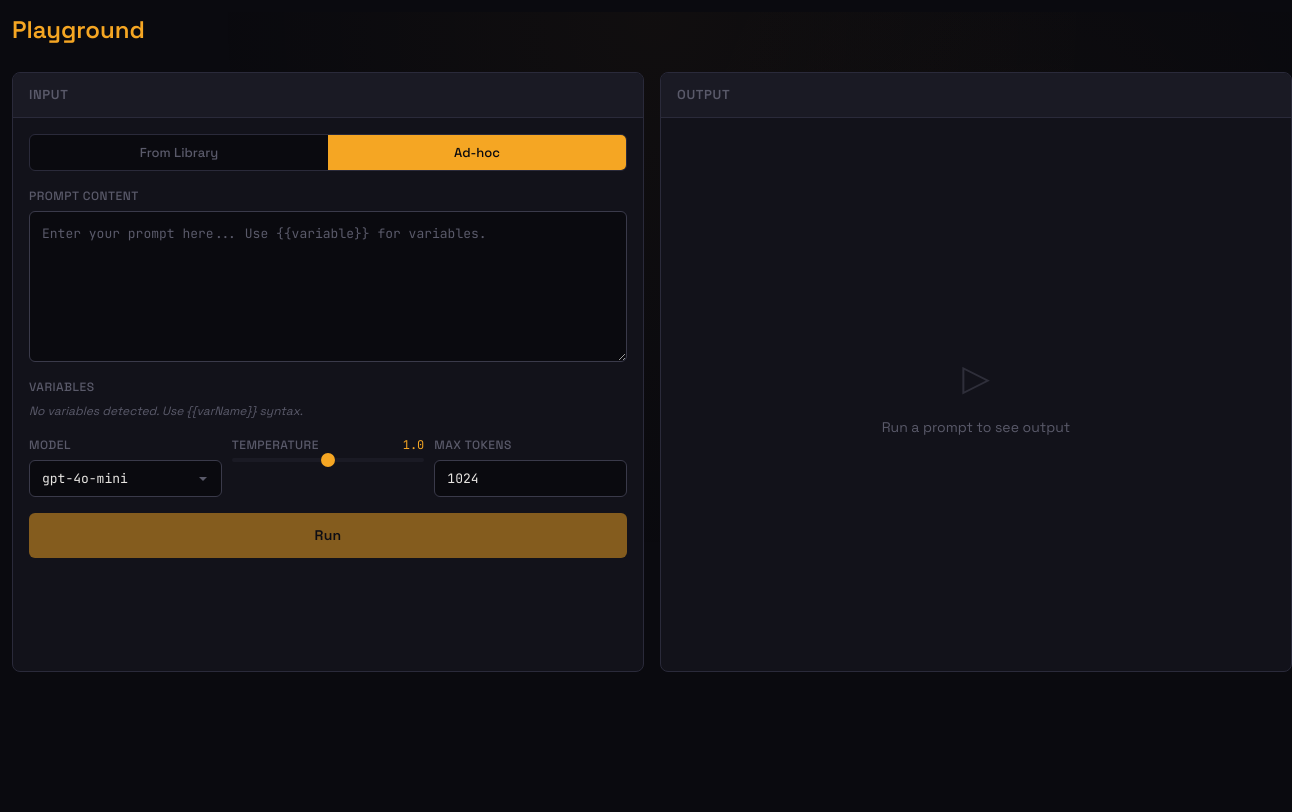
Scenario: PlaygroundPage › shows error when run fails
The image size is (1292, 812).
Check: the dropdown showing "gpt-4o-mini" is shown, box [29,460,222,497]
Step 1. Type "Test" into the text box with placeholder "Enter your prompt here... Use {{variable}} for variables." → (328, 286), box [29,211,627,362]
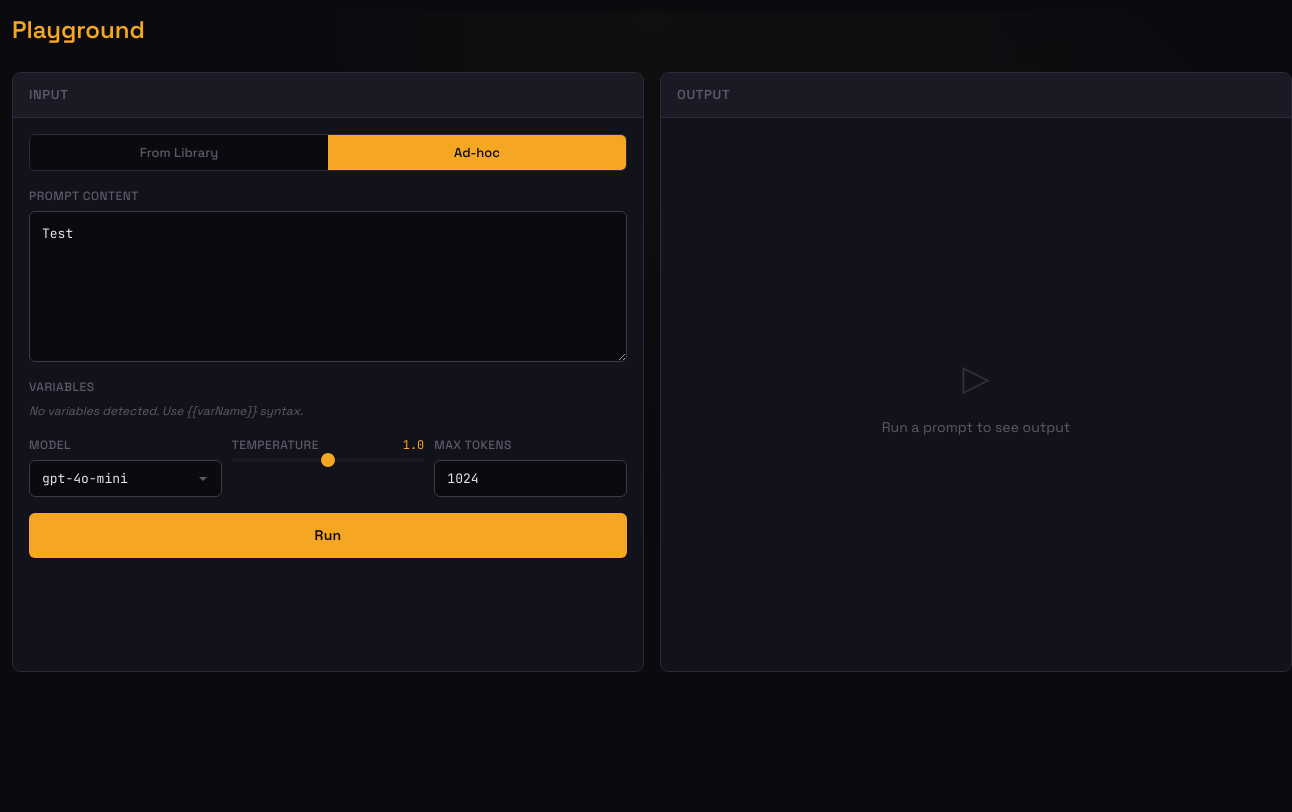
Step 2. Click the button "Run" → (328, 536), box [29,513,627,558]
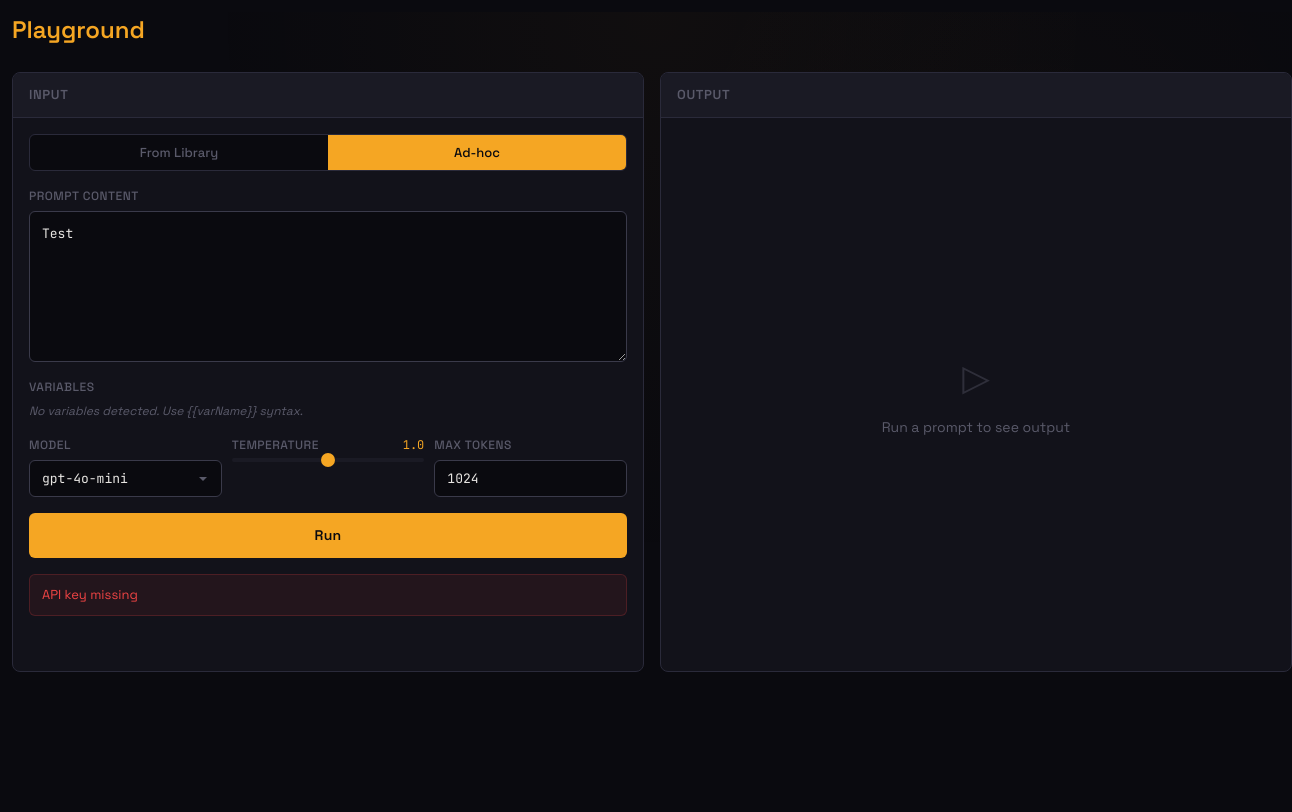
Check: the text "API key missing" is shown, box [29,574,627,616]
